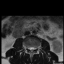CCS_normal: (31, 45, 32, 53)
LFS_normal: (34, 45, 37, 51)
LLS_normal: (32, 45, 34, 52)
RFS_normal: (27, 45, 29, 51)
RLS_normal: (29, 45, 31, 52)
